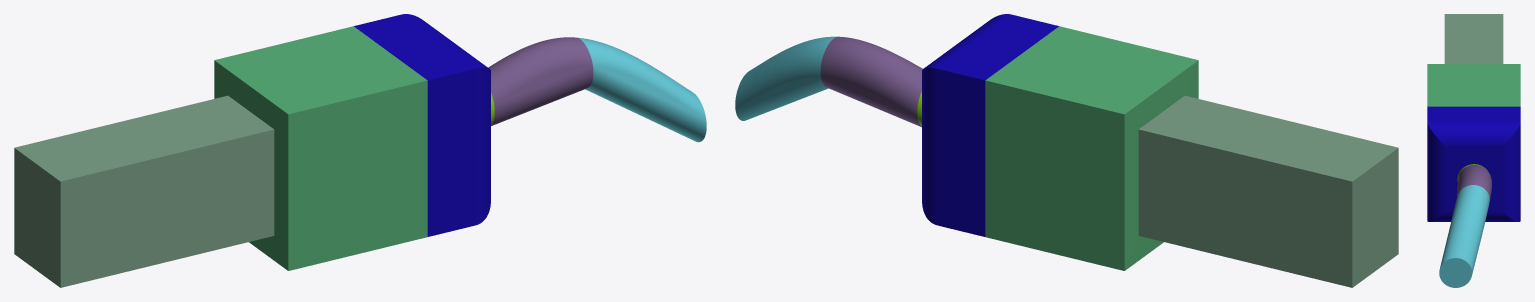
File: 4_canonical.obj
3 renders of one model, left to right at view 1: azimuth 30°, elevation 25°; view 2: azimuth 150°, elevation 25°; view 3: azimuth 270°, elevation 25°, orthographic. The views are drawn at different scales.
Visible parts, largest first — view 1: geometry_0, geometry_3, geometry_5, geometry_2, geometry_1; view 2: geometry_0, geometry_3, geometry_5, geometry_1, geometry_2; view 3: geometry_5, geometry_3, geometry_2, geometry_0, geometry_1.
Boxes of the visible parts, x1,y1,x2,y2 form: geometry_0: [14, 95, 274, 287]; geometry_3: [214, 26, 427, 270]; geometry_5: [354, 14, 490, 236]; geometry_2: [577, 37, 706, 142]; geometry_1: [488, 37, 593, 125]; geometry_0: [1138, 95, 1398, 287]; geometry_3: [985, 26, 1198, 270]; geometry_5: [922, 14, 1058, 236]; geometry_1: [820, 36, 922, 127]; geometry_2: [735, 36, 837, 120]; geometry_5: [1427, 106, 1520, 221]; geometry_3: [1427, 64, 1520, 106]; geometry_2: [1439, 185, 1489, 287]; geometry_0: [1444, 14, 1503, 63]; geometry_1: [1457, 165, 1491, 200].
Bounding box in the file's own units: 0.06 × 0.014 × 0.012.
